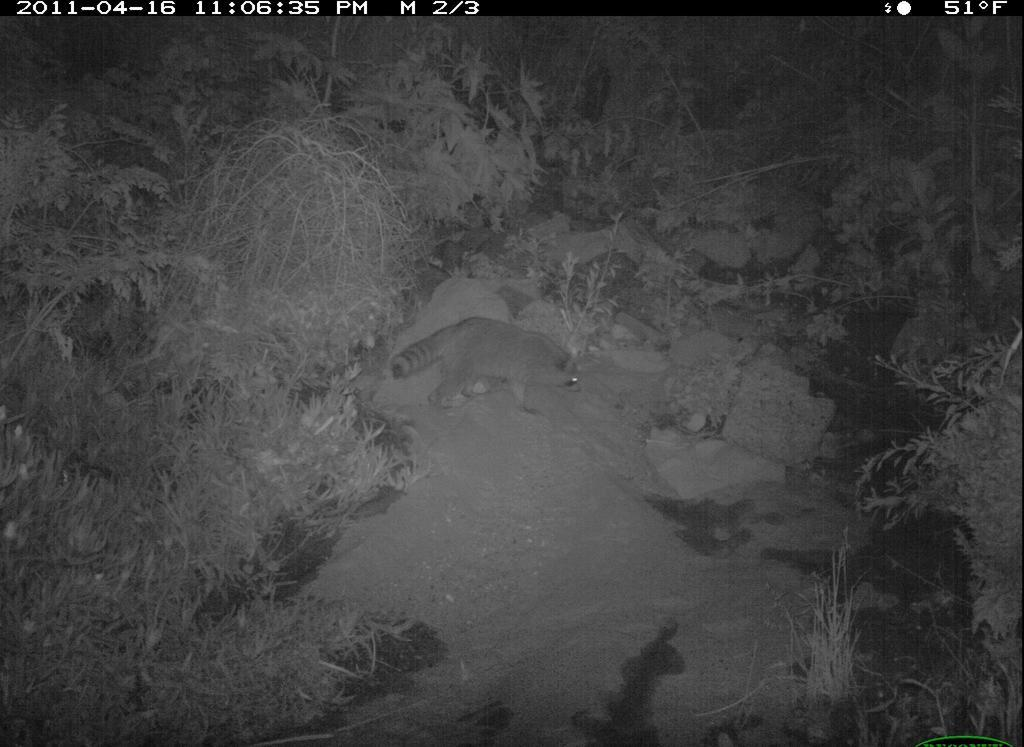raccoon: (372, 292, 589, 438)
